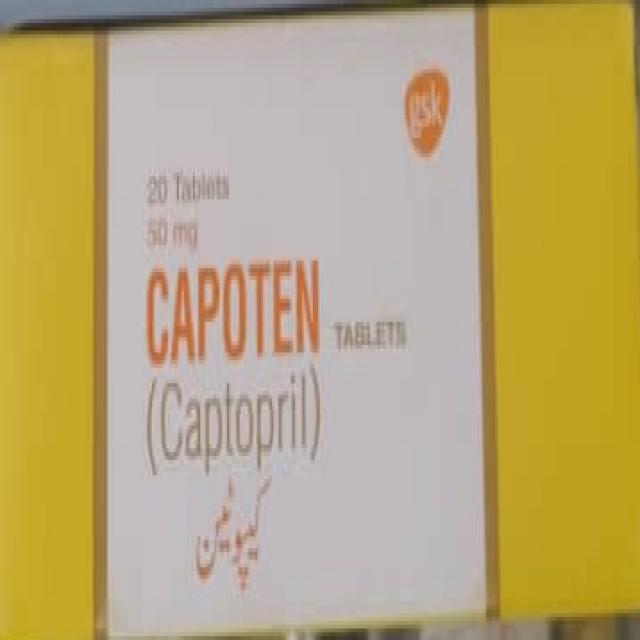drug-name: (142, 255, 326, 366)
